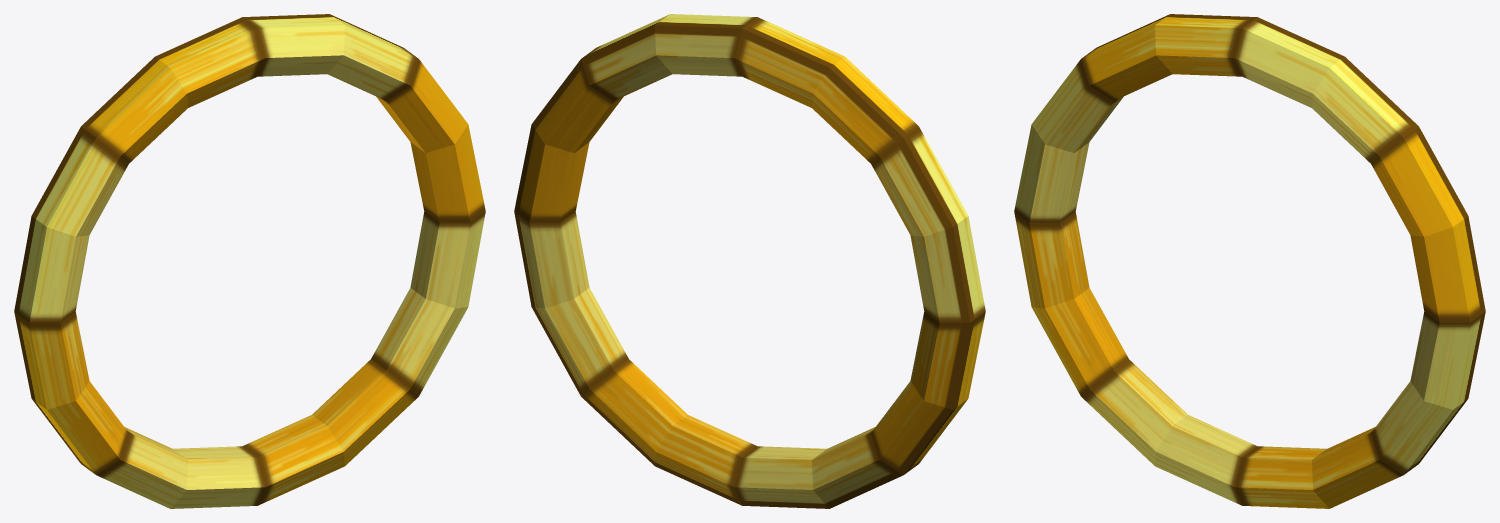
Rendered from AroOro.glb.
3 views of the same model, side by side, from view 1: azimuth 30°, elevation 25°; view 2: azimuth 150°, elevation 25°; view 3: azimuth 330°, elevation 25° (orthographic).
Visible parts, largest first — view 1: AroOro; view 2: AroOro; view 3: AroOro.
Boxes of the visible parts, box(x1,y1,x2,y2) form: AroOro: box(14, 14, 485, 508); AroOro: box(514, 14, 985, 508); AroOro: box(1014, 14, 1485, 508).
Bounding box in the file's own units: 11.13 × 11.13 × 1.3.
Materials: 1 (1 with a texture image).
